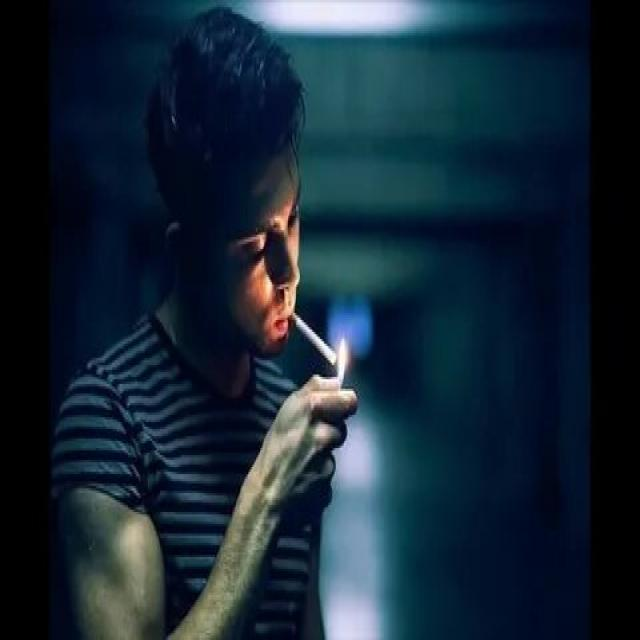smoke: (290, 308, 342, 377)
